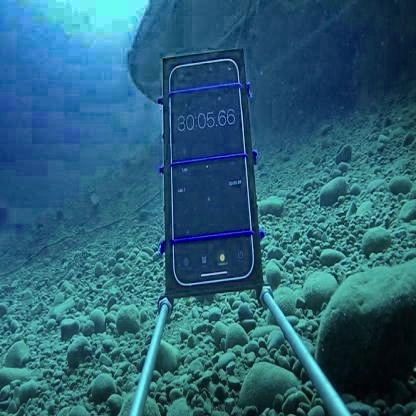cellphone: (169, 57, 254, 283)
